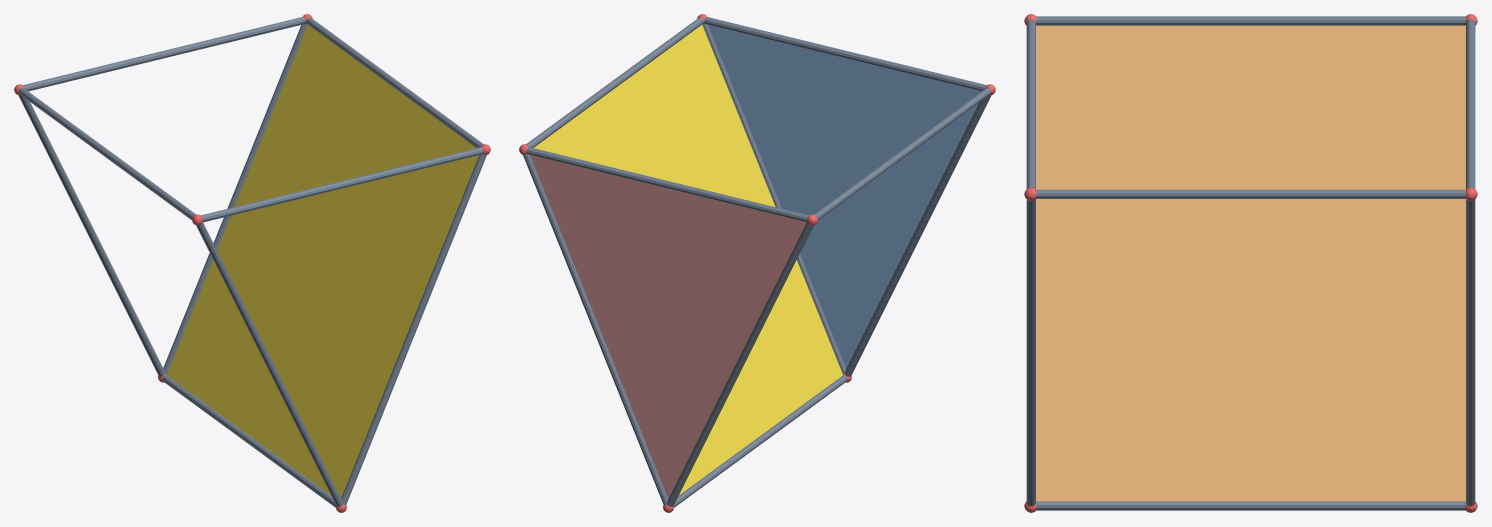
File: langtru.glb
3 views of the same model, side by side, from view 1: azimuth 30°, elevation 25°; view 2: azimuth 150°, elevation 25°; view 3: azimuth 270°, elevation 25° (orthographic). The views are drawn at different scales.
Parts seen in each view (by area): view 1: world; view 2: world; view 3: world.
Part boxes in pixels (x1=…): world: x1=14, y1=14, x2=490, y2=512; world: x1=519, y1=14, x2=995, y2=512; world: x1=1024, y1=14, x2=1477, y2=512.
Size of the model in its own units: 0.2534 by 0.2709 by 0.2709.
